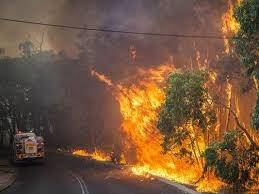fire: (74, 21, 248, 181), (67, 145, 111, 161)
